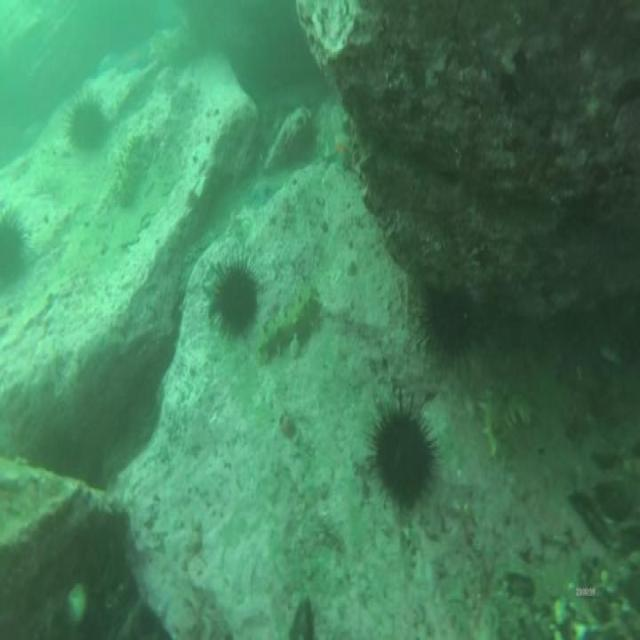echinus: (374, 404, 431, 509), (209, 264, 256, 338), (426, 291, 477, 352), (68, 98, 105, 149), (1, 218, 23, 286)
holothurian: (261, 289, 322, 360), (482, 384, 530, 457), (115, 131, 141, 207)
starfish: (252, 170, 276, 206), (324, 140, 352, 170)
